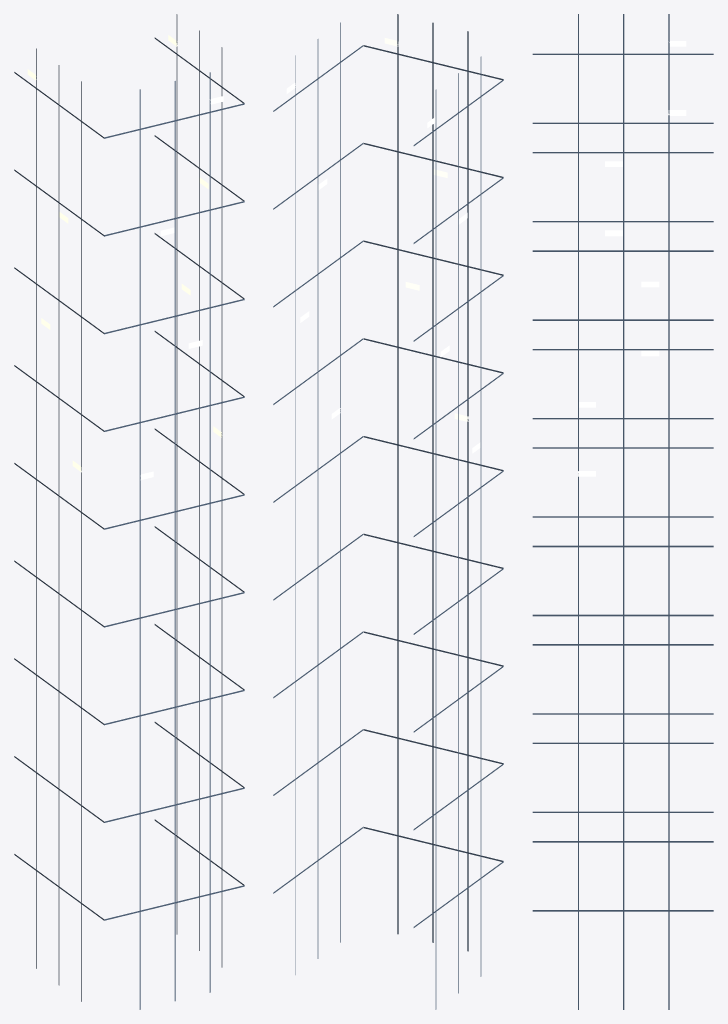
File: SM_MM_N01_Facade.fbx
The picture shows the model from 3 angles, left to right: view 1: azimuth 30°, elevation 25°; view 2: azimuth 150°, elevation 25°; view 3: azimuth 270°, elevation 25°; orthographic projection.
Visible parts, largest first — view 1: SM_MM_N01_Facade; view 2: SM_MM_N01_Facade; view 3: SM_MM_N01_Facade.
Part boxes in pixels (x1,y1,x2,y2): SM_MM_N01_Facade: (14,14,244,1009); SM_MM_N01_Facade: (273,14,503,1009); SM_MM_N01_Facade: (532,14,713,1009).
Size of the model in its own units: 18.05 by 20.03 by 113.
